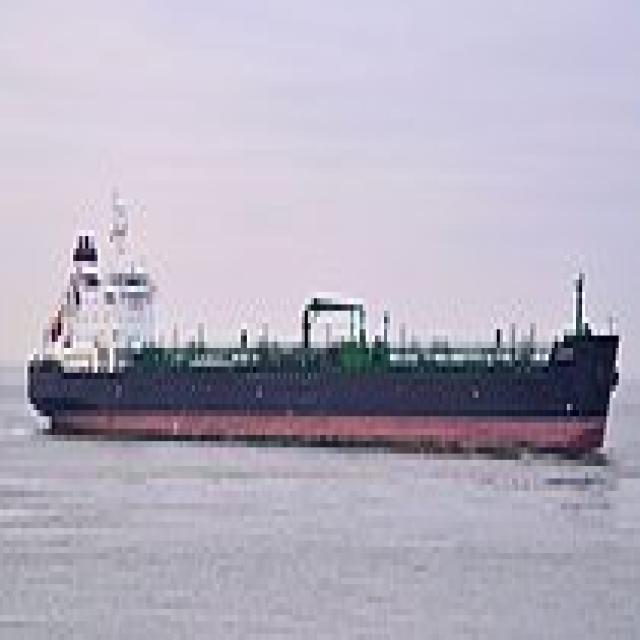Tanker: (21, 180, 619, 448)
